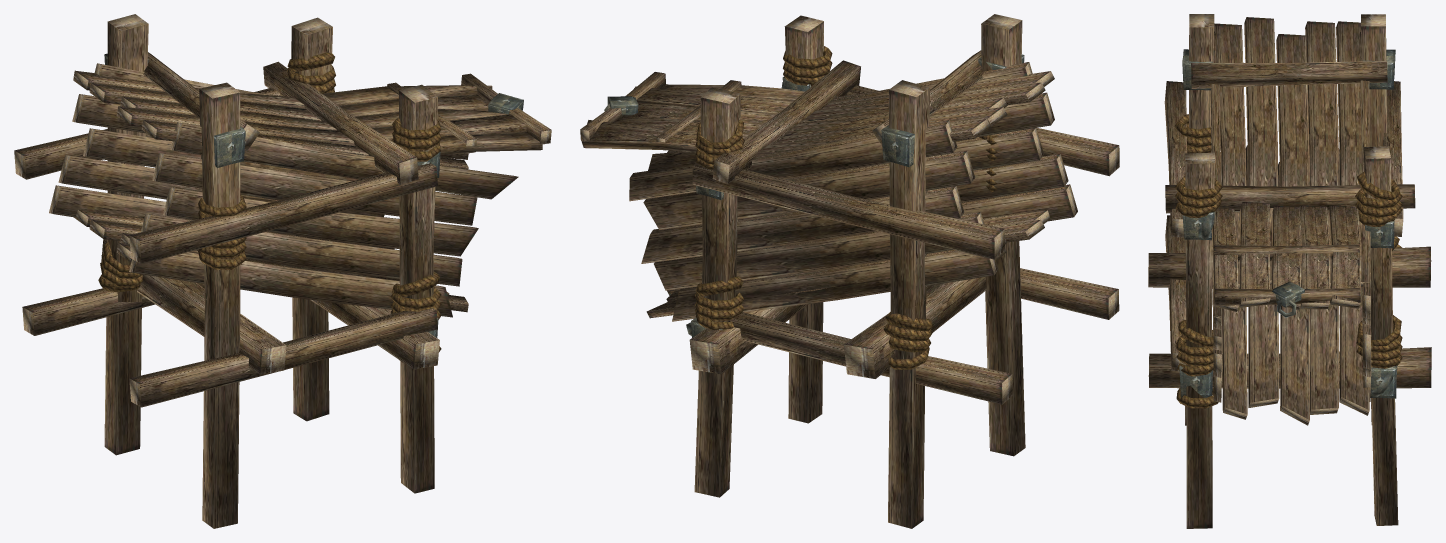
Rendered from S_Build_West050.FBX.
The picture shows the model from 3 angles, left to right: view 1: azimuth 30°, elevation 25°; view 2: azimuth 150°, elevation 25°; view 3: azimuth 270°, elevation 25°; orthographic projection. The views are drawn at different scales.
Visible parts, largest first — view 1: S_Build_West050; view 2: S_Build_West050; view 3: S_Build_West050.
Part boxes in pixels (bbox=[...]): S_Build_West050: bbox=[14, 14, 551, 528]; S_Build_West050: bbox=[580, 14, 1119, 528]; S_Build_West050: bbox=[1148, 14, 1431, 528].
Size of the model in its own units: 1051 by 616 by 995.
